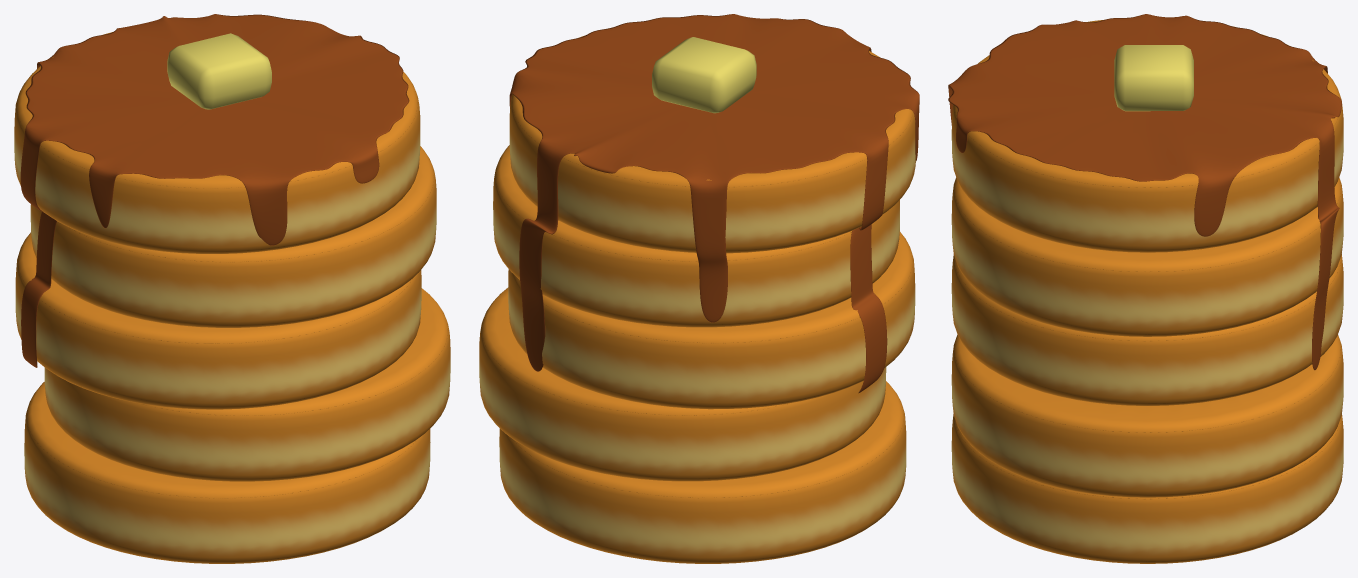
The model's file is HotcakePilePrefab.obj.
3 renders of one model, left to right at view 1: azimuth 30°, elevation 25°; view 2: azimuth 150°, elevation 25°; view 3: azimuth 270°, elevation 25°, orthographic. The views are drawn at different scales.
Parts seen in each view (by area): view 1: Syrup, HotCake.001, HotCake.003, HotCake.002, HotCake.004, HotCake.005, Butter; view 2: Syrup, HotCake.001, HotCake.002, HotCake.003, HotCake.004, HotCake.005, Butter; view 3: Syrup, HotCake.002, HotCake.004, HotCake.003, HotCake.005, HotCake.001, Butter.
Part boxes in pixels (x1,y1,x2,y2): Syrup: (20,14,409,367); HotCake.001: (24,382,430,563); HotCake.003: (15,232,421,409); HotCake.002: (44,288,450,481); HotCake.004: (30,146,436,327); HotCake.005: (14,32,420,253); Butter: (167,33,271,109); Syrup: (509,14,919,393); HotCake.001: (499,381,906,563); HotCake.002: (479,287,886,481); HotCake.003: (508,231,915,409); HotCake.004: (493,145,899,327); HotCake.005: (509,35,915,253); Butter: (652,37,756,113); Syrup: (948,14,1341,370); HotCake.002: (951,334,1343,497); HotCake.004: (951,177,1343,336); HotCake.003: (951,254,1343,405); HotCake.005: (951,19,1343,252); HotCake.001: (951,414,1343,563); Butter: (1114,45,1193,111).
Size of the model in its own units: 4.98 by 5.36 by 4.52.
